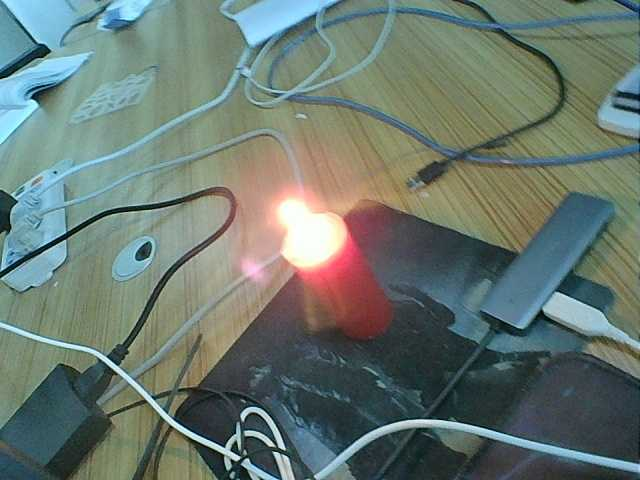candle: (290, 264, 398, 336)
fire: (269, 200, 335, 257)
